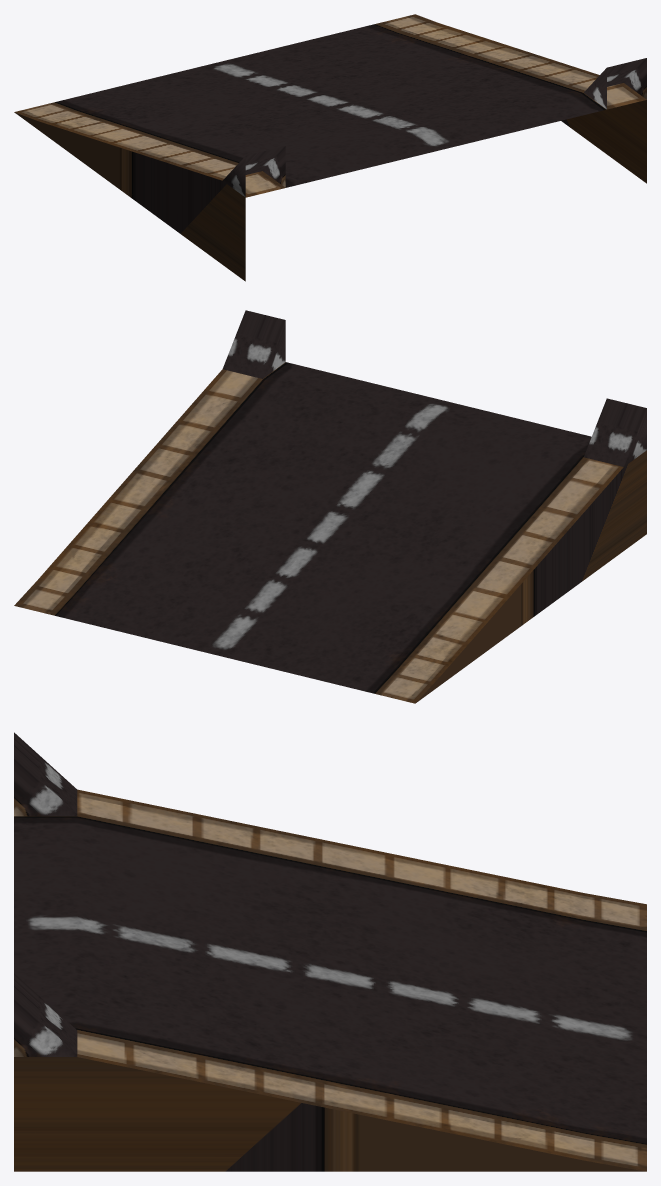
The model's file is Bridge_Ramp.fbx.
3 views of the same model, one above another, from view 1: azimuth 30°, elevation 25°; view 2: azimuth 150°, elevation 25°; view 3: azimuth 270°, elevation 25° (orthographic). The views are drawn at different scales.
Visible parts, largest first — view 1: Bridge_Ramp; view 2: Bridge_Ramp; view 3: Bridge_Ramp.
Boxes of the visible parts, x1,y1,x2,y2 form: Bridge_Ramp: (14, 14, 646, 281); Bridge_Ramp: (14, 310, 646, 703); Bridge_Ramp: (14, 732, 646, 1171).
Size of the model in its own units: 100 by 30 by 100.
